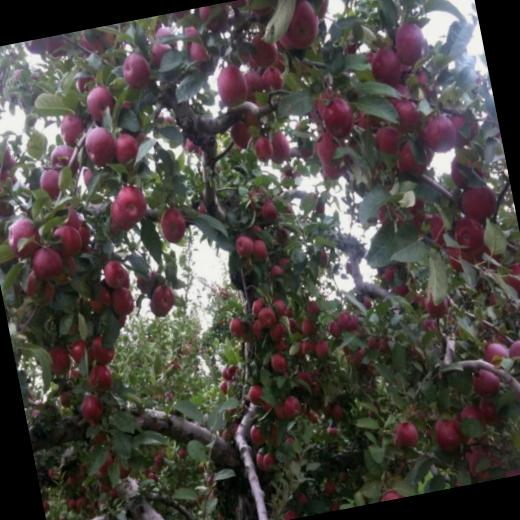Apple: (0, 0, 520, 520), (314, 84, 365, 147)
